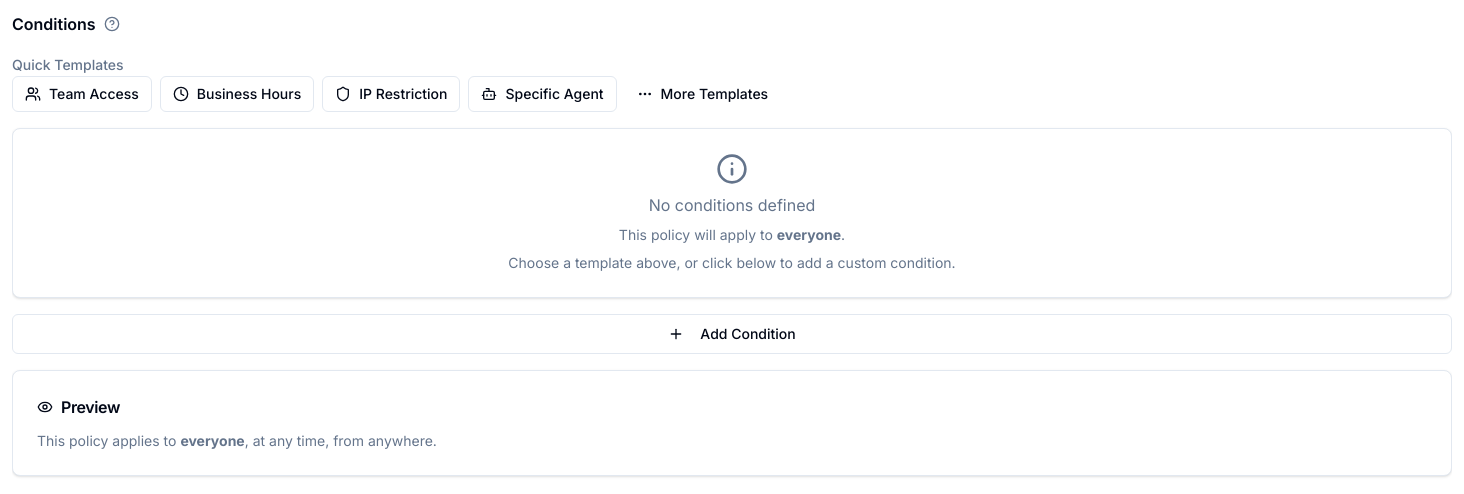
ConditionsSection › applying templates › applies Team Access template
Click the button "Team Access".
click(82, 94)  # box x1=12 y1=76 x2=152 y2=112
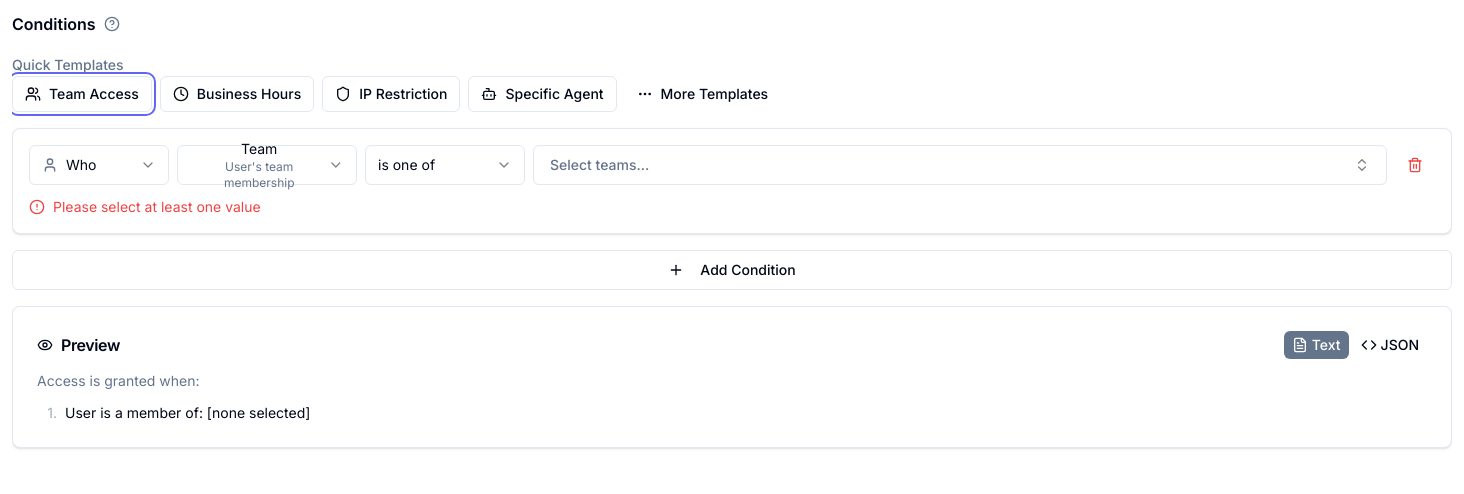
Result: the text "No conditions defined" is gone
